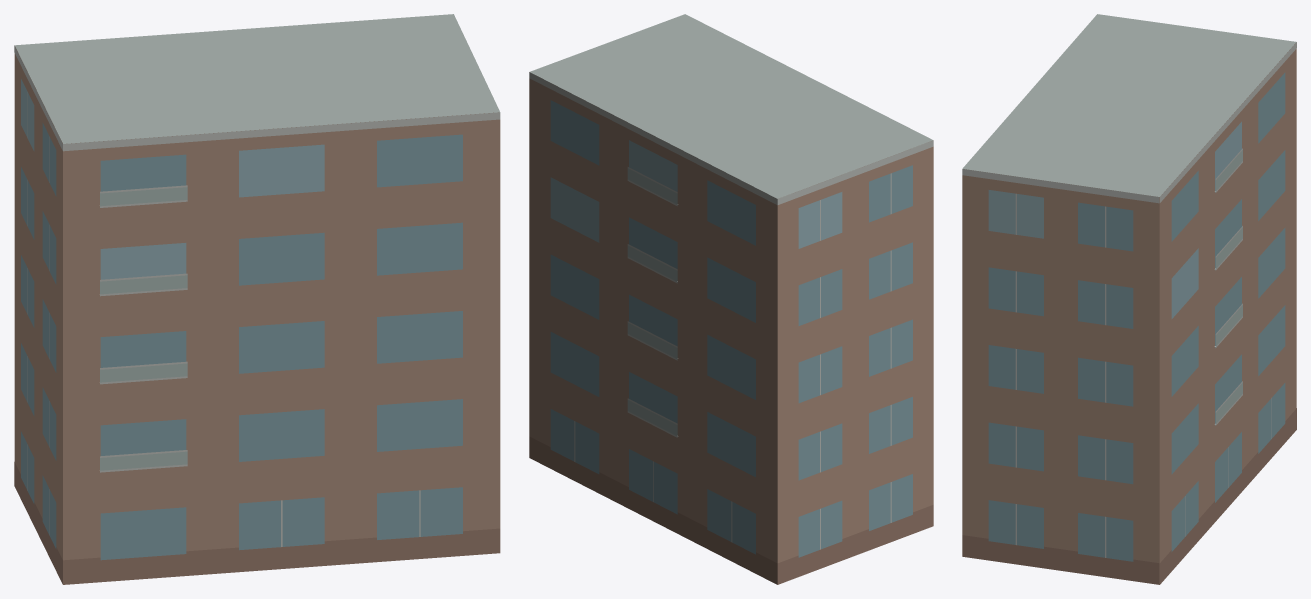
Rendered from survey-upis-33006242.glb.
The picture shows the model from 3 angles, left to right: view 1: azimuth 30°, elevation 25°; view 2: azimuth 150°, elevation 25°; view 3: azimuth 270°, elevation 25°; orthographic projection. The views are drawn at different scales.
Parts seen in each view (by area): view 1: survey-upis-33006242.tmp; view 2: survey-upis-33006242.tmp; view 3: survey-upis-33006242.tmp.
Boxes of the visible parts, x1,y1,x2,y2 form: survey-upis-33006242.tmp: (14,14,500,584); survey-upis-33006242.tmp: (529,14,933,584); survey-upis-33006242.tmp: (962,14,1296,584).
Size of the model in its own units: 15.04 by 14.85 by 11.62.
